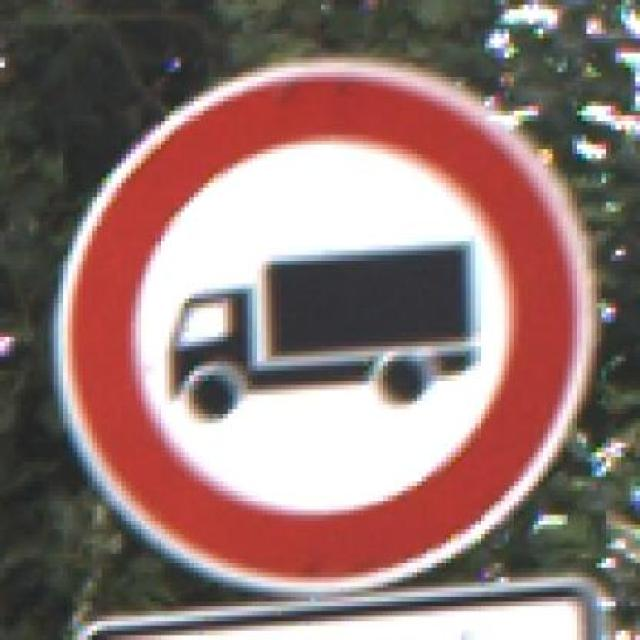Truck traffic is prohibited: (33, 43, 621, 606)
